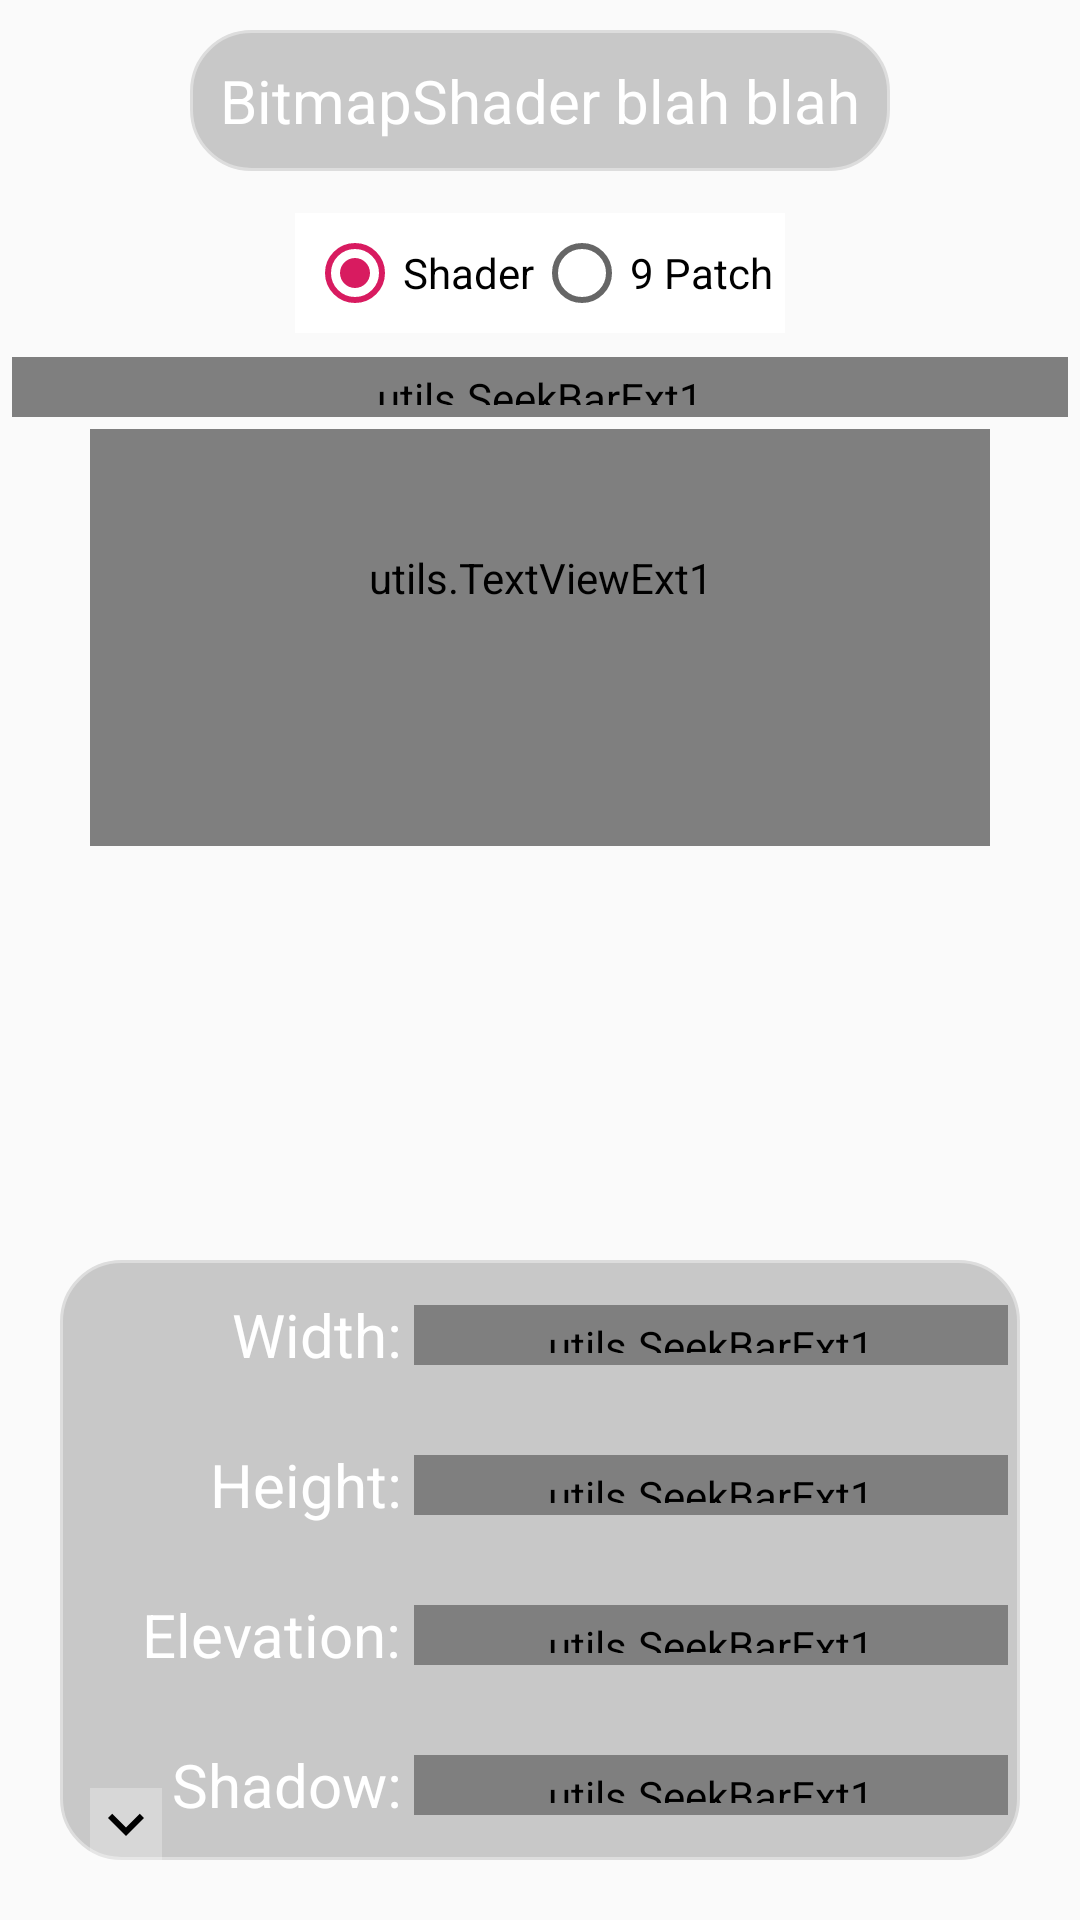

Icon bounding boxes for this 1080x1920 phone screenshot, format {"x1": x1, "y1": y1, "x2": x2, "y2": y2}:
expand open: {"x1": 90, "y1": 1788, "x2": 162, "y2": 1860}
